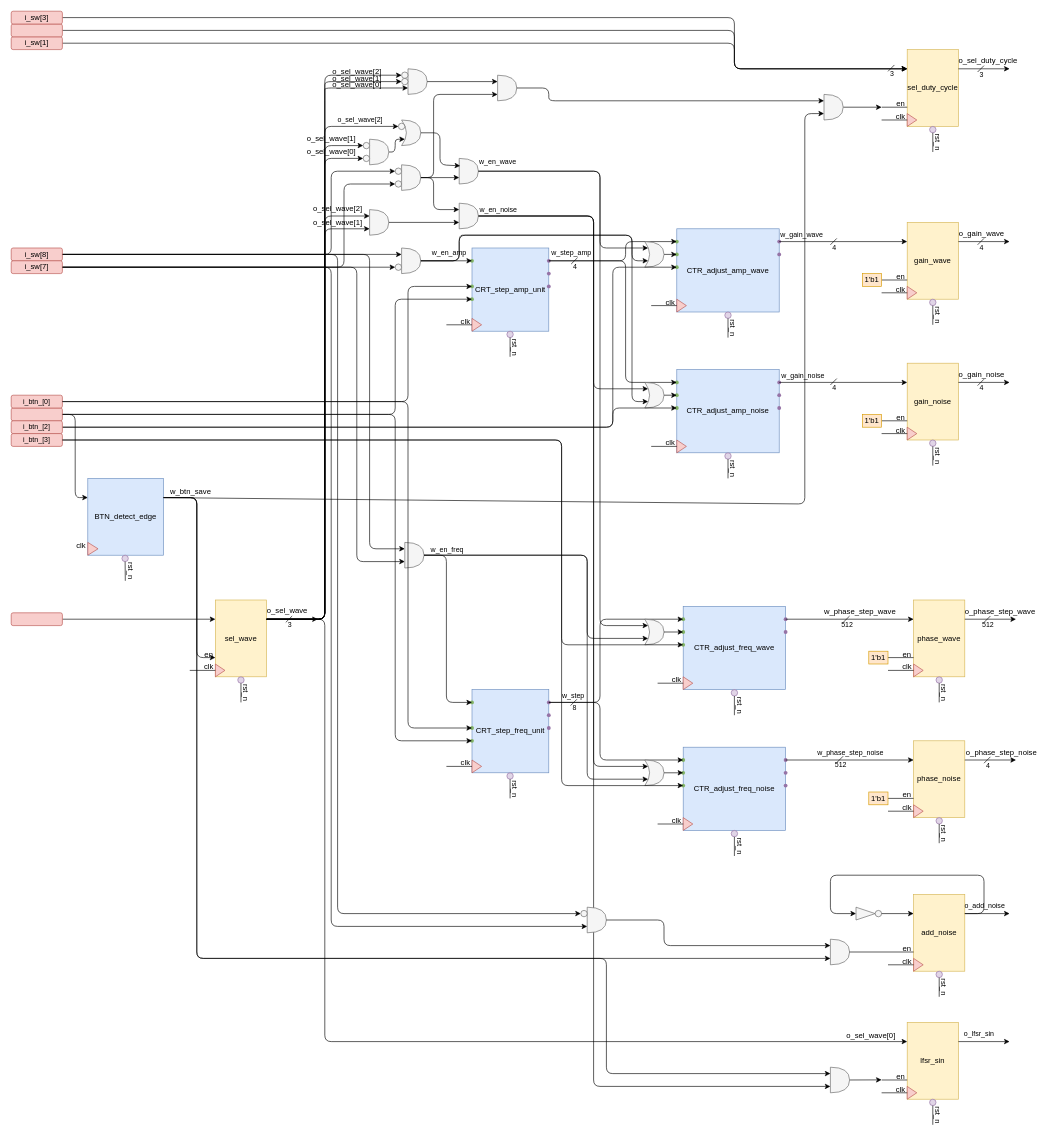
Image size: 1048x1137. Some labels were removed from this diagram. The centre of each missing label's shape, as x and y in pixels:
"i_btn_[1]" goes at point 36,414.
"i_sw[2]" goes at point 36,30.
"i_sw[6:4]" goes at point 36,619.
